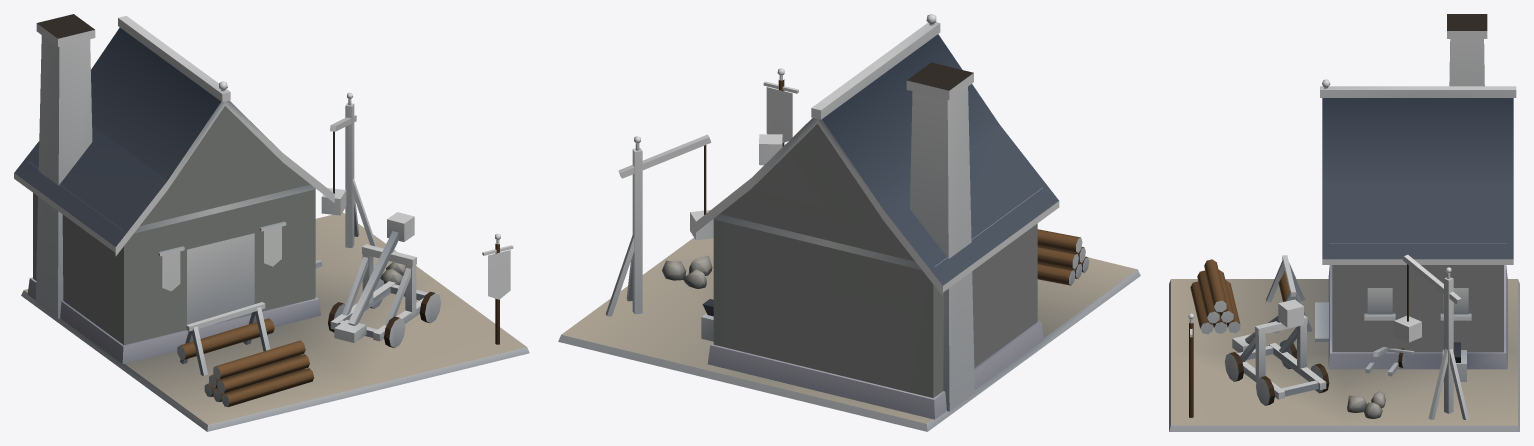
The model's file is siege_workshop_t5.glb.
3 renders of one model, left to right at view 1: azimuth 30°, elevation 25°; view 2: azimuth 150°, elevation 25°; view 3: azimuth 270°, elevation 25°, orthographic. The views are drawn at different scales.
Parts seen in each view (by area): view 1: siege_workshop_t5; view 2: siege_workshop_t5; view 3: siege_workshop_t5.
Boxes of the visible parts, x1,y1,x2,y2 form: siege_workshop_t5: (14,14,529,431); siege_workshop_t5: (558,14,1140,431); siege_workshop_t5: (1169,14,1519,431).
Bounding box in the file's own units: 2.95 × 2.42 × 2.86.
